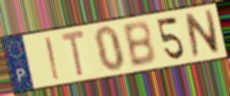0: (92, 25, 128, 74)
5: (155, 16, 186, 61)
B: (120, 20, 158, 70)
I: (43, 35, 62, 82)
N: (183, 8, 222, 59)
T: (59, 28, 87, 79)
